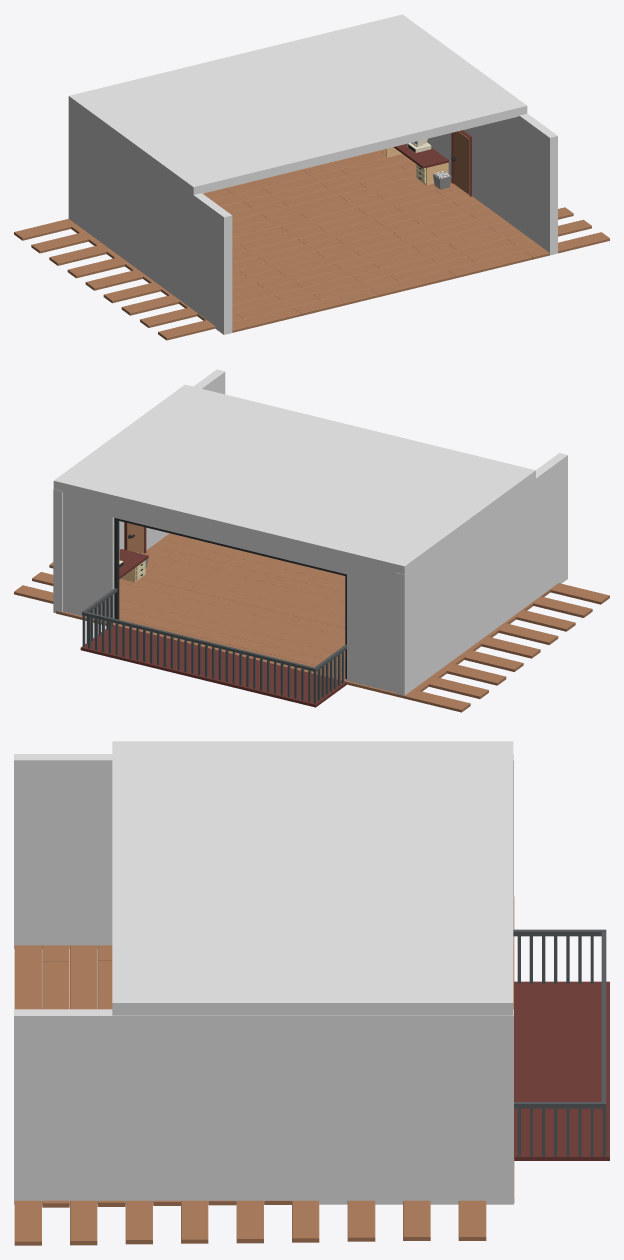
File: casa1.glb
The picture shows the model from 3 angles, top to bottom: view 1: azimuth 30°, elevation 25°; view 2: azimuth 150°, elevation 25°; view 3: azimuth 270°, elevation 25°; orthographic projection. The views are drawn at different scales.
Parts seen in each view (by area): view 1: Techo, Pared iZ, Pared iZ.001, 1.009, 1.013, 1.010, 1.012, 1.011, 1.015, 1.004, 1.016, 1.007 (+11 smaller); view 2: Techo, Pared iZ, florr, Pared CE 2, Pared CE 3, Pared CE 1, barras central, 1.005, 1.002, 1.007, 1.017, 1.004 (+16 smaller); view 3: Techo, Pared iZ.001, Pared iZ, florr, 1.009, 1.011, 1.013, barras iz, barras der, 1.016, 1.010, 1.014 (+7 smaller).
Boxes of the visible parts, <box> form: Techo: <box>68,14,527,195</box>; Pared iZ: <box>68,105,232,334</box>; Pared iZ.001: <box>427,113,557,255</box>; 1.009: <box>216,232,609,334</box>; 1.013: <box>158,240,540,340</box>; 1.010: <box>140,228,523,327</box>; 1.012: <box>121,215,506,315</box>; 1.011: <box>197,219,591,320</box>; 1.015: <box>103,202,488,303</box>; 1.004: <box>85,190,469,290</box>; 1.016: <box>179,207,573,308</box>; 1.007: <box>67,181,453,278</box>; Techo: <box>53,384,535,574</box>; Pared iZ: <box>396,453,567,695</box>; florr: <box>80,625,346,707</box>; Pared CE 2: <box>347,574,395,692</box>; Pared CE 3: <box>63,505,114,622</box>; Pared CE 1: <box>63,492,395,586</box>; barras central: <box>88,616,311,702</box>; 1.005: <box>119,582,506,685</box>; 1.002: <box>119,600,488,698</box>; 1.007: <box>141,571,523,671</box>; 1.017: <box>14,585,428,691</box>; 1.004: <box>143,553,540,658</box>; Techo: <box>112,741,513,1015</box>; Pared iZ.001: <box>14,1009,513,1204</box>; Pared iZ: <box>14,754,513,948</box>; florr: <box>514,981,609,1160</box>; 1.009: <box>14,945,41,1245</box>; 1.011: <box>70,945,97,1245</box>; 1.013: <box>42,945,69,1207</box>; barras iz: <box>517,1108,605,1156</box>; barras der: <box>517,936,593,984</box>; 1.016: <box>125,1200,152,1244</box>; 1.010: <box>97,945,125,1206</box>; 1.014: <box>181,1200,208,1243</box>.
Bounding box in the file's own units: 56.61 × 15.5 × 41.25.
